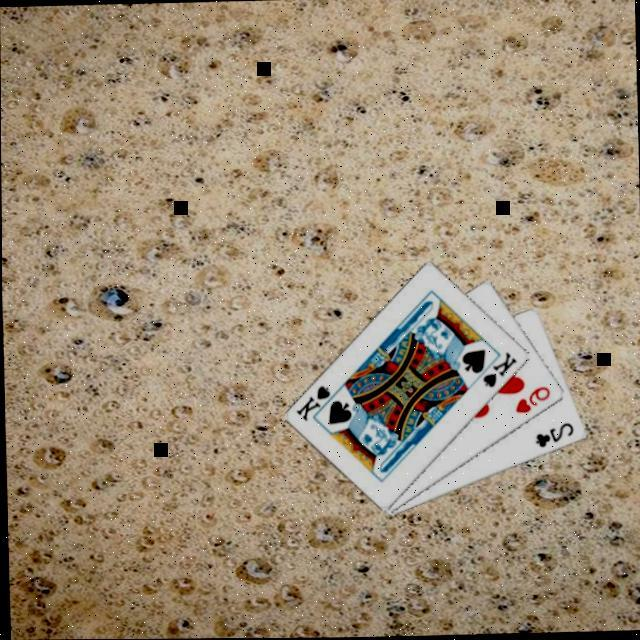2C: (529, 417, 574, 449)
9H: (509, 381, 552, 414)
KS: (291, 380, 340, 422), (477, 346, 519, 388)
